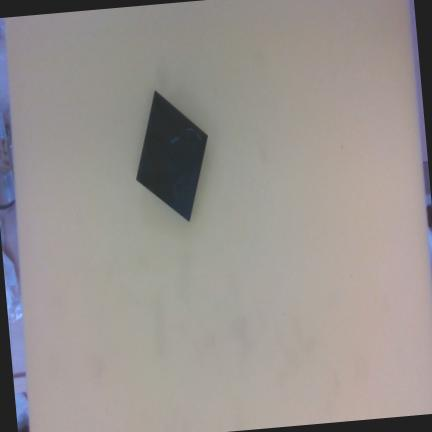tile: (130, 90, 214, 221)
